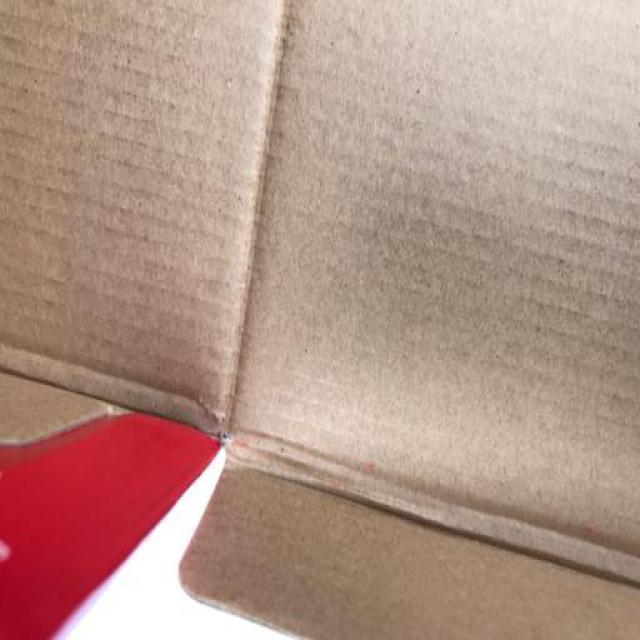Cardboard: (0, 2, 638, 640)
